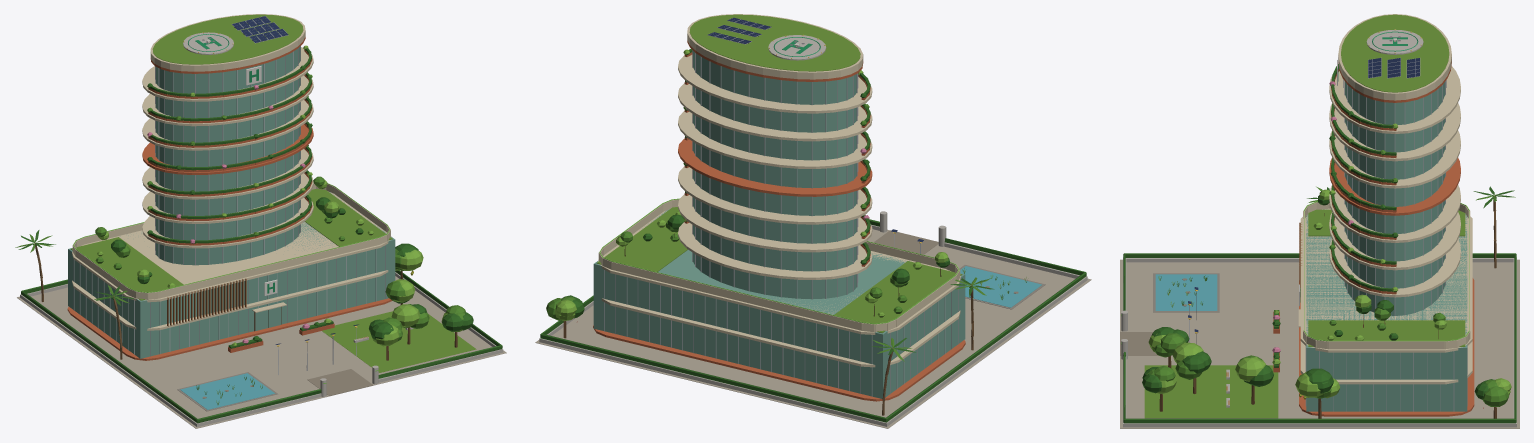
File: hospital.glb
3 views of the same model, side by side, from view 1: azimuth 30°, elevation 25°; view 2: azimuth 150°, elevation 25°; view 3: azimuth 270°, elevation 25° (orthographic). The views are drawn at different scales.
Visible parts, largest first — view 1: body, windows; view 2: body, windows; view 3: body, windows.
Part boxes in pixels (x1,y1,x2,y2): body: (15,14,506,428); windows: (73,32,390,383); body: (535,14,1091,428); windows: (599,35,959,324); body: (1120,14,1519,428); windows: (1121,29,1469,344).
Size of the model in its own units: 49.87 by 39 by 47.9.
